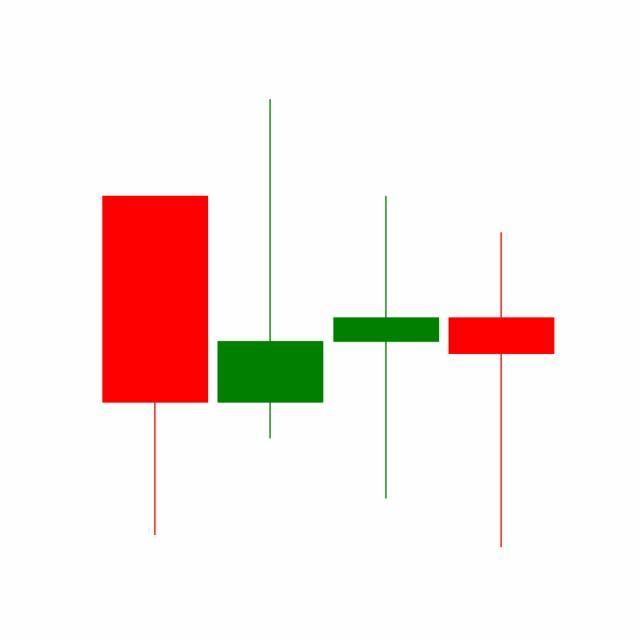Spinning Top: (444, 230, 560, 552)
